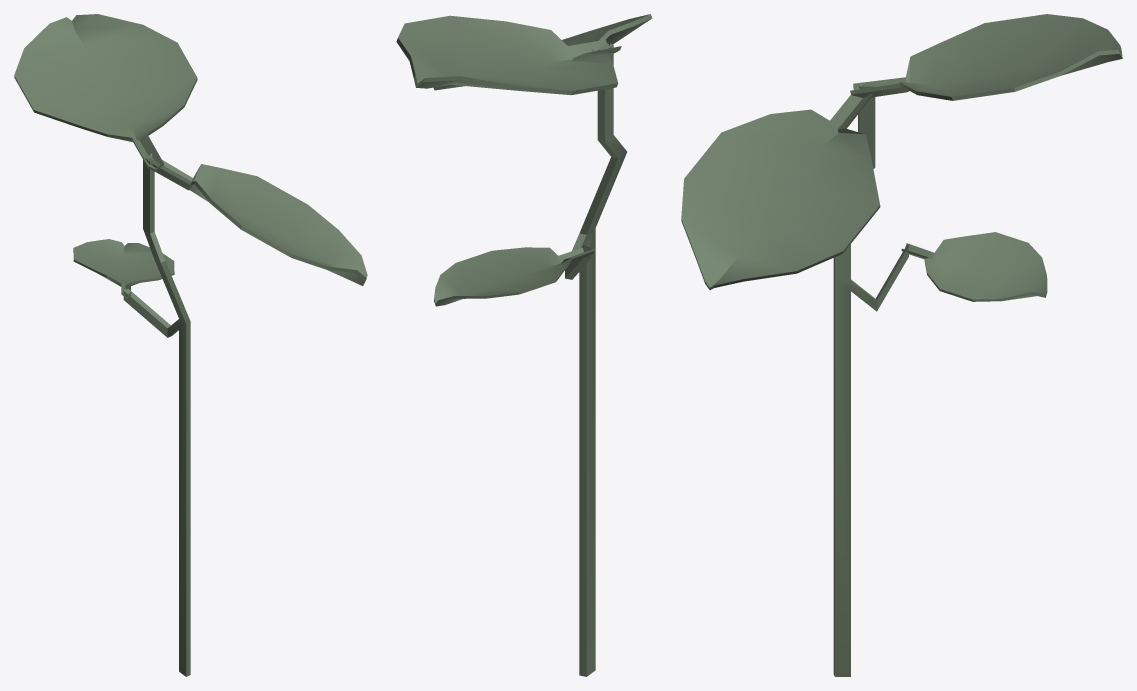
Rendered from plant.fbx.
The picture shows the model from 3 angles, left to right: view 1: azimuth 30°, elevation 25°; view 2: azimuth 150°, elevation 25°; view 3: azimuth 270°, elevation 25°; orthographic projection. The views are drawn at different scales.
Visible parts, largest first — view 1: plant; view 2: plant; view 3: plant.
Part boxes in pixels (left/top/right/bottom): plant: left=14, top=14, right=367, bottom=676; plant: left=396, top=14, right=652, bottom=676; plant: left=681, top=14, right=1122, bottom=676.
Bounding box in the file's own units: 32.64 × 80.22 × 50.2.
